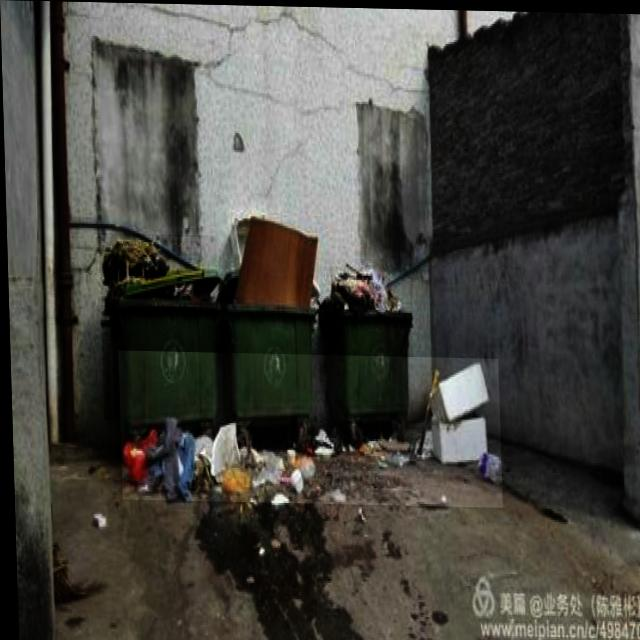garbage: (116, 350, 500, 506)
overflow: (97, 232, 223, 422), (214, 211, 319, 415), (314, 257, 413, 417)
